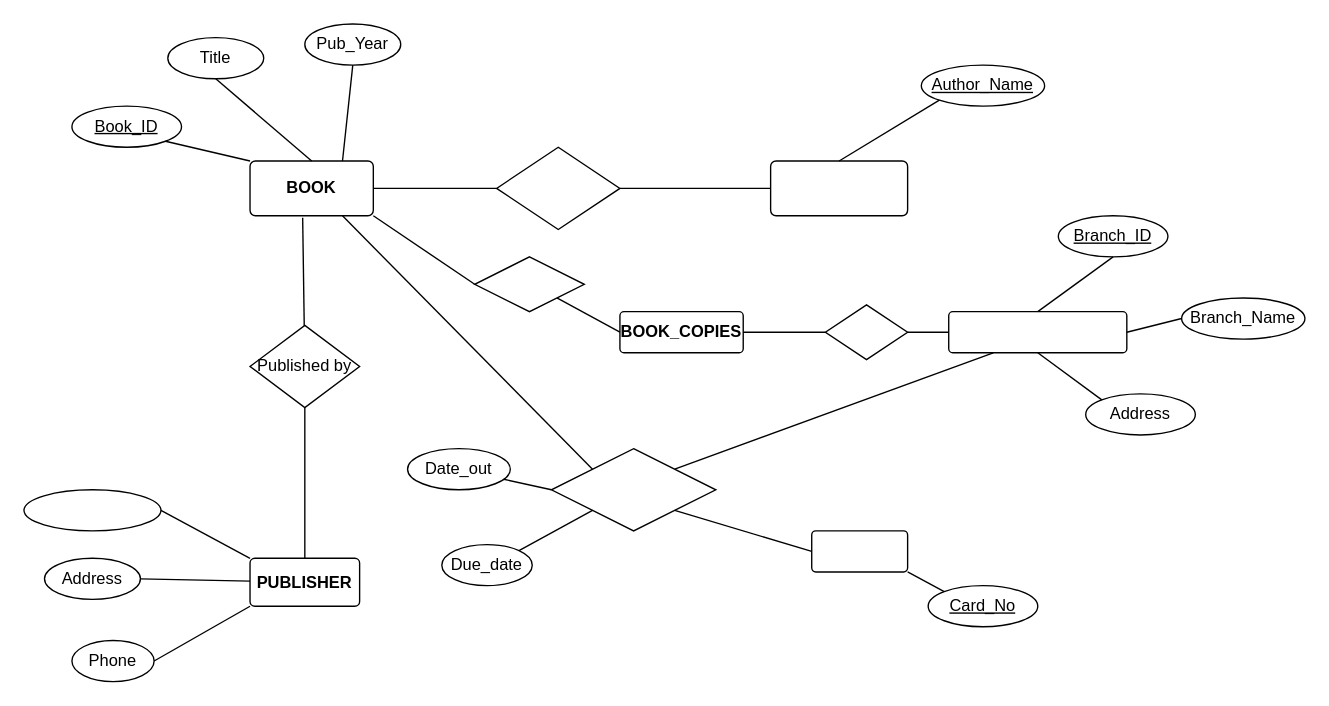
Some shapes in this 1329 by 706 pixel diagram are drawn without their labels. The shapes that lost their labels are listed below. From the top down, each one's centre as x and y in pixels, then its label:
(x=557, y=187): written by
(x=838, y=188): BOOK_AUTHOR
(x=528, y=284): Has
(x=866, y=331): In
(x=1037, y=331): LIBRARY_BRANCH
(x=92, y=509): Publisher_Name
(x=633, y=489): Book_Lending
(x=859, y=551): CARD
